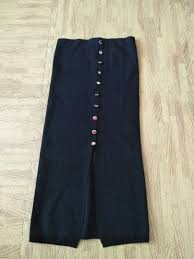S_skirt: (19, 29, 162, 256)
